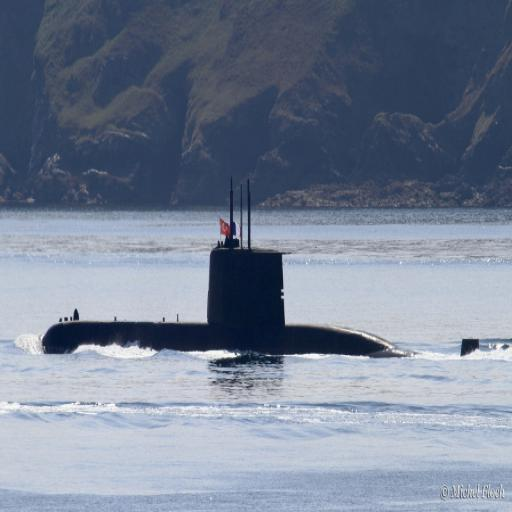submarine: (43, 246, 481, 355)
